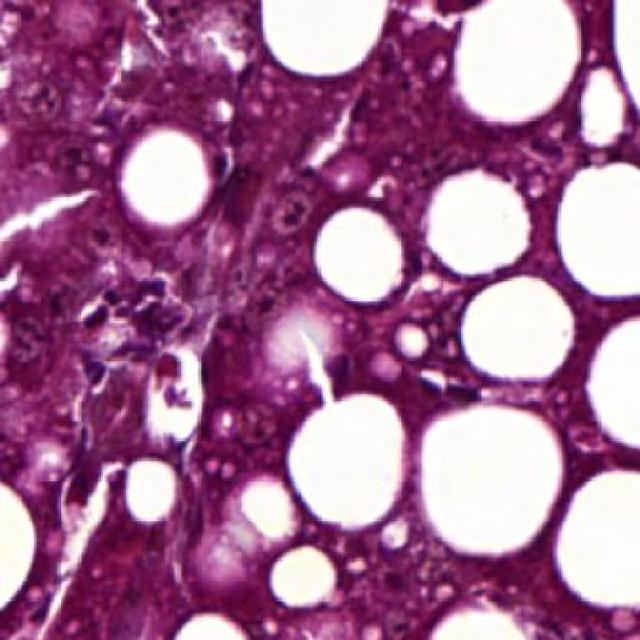steatosis: (460, 274, 578, 384), (557, 468, 640, 608), (258, 0, 388, 80), (315, 208, 408, 306), (0, 483, 34, 615)
